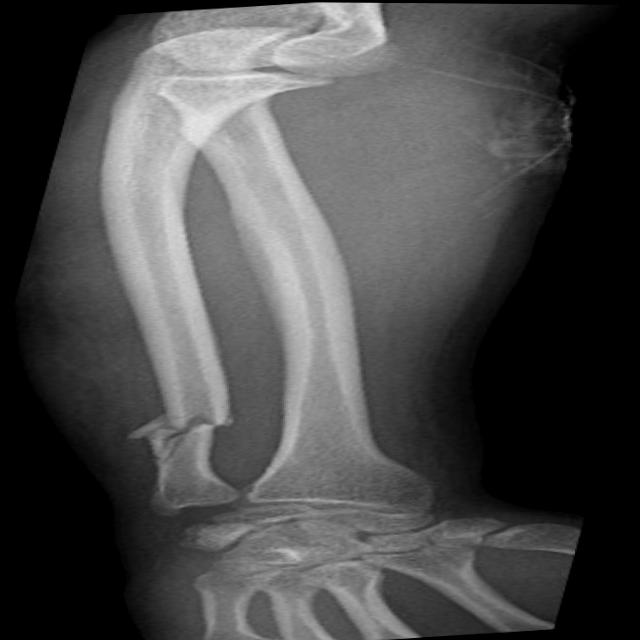Transverse Displaced: (89, 389, 269, 463)
